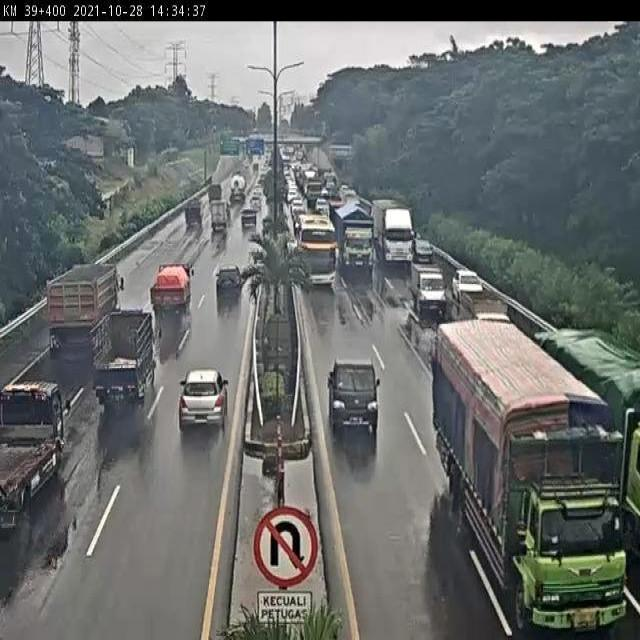big bus: (292, 211, 337, 288)
big truck: (433, 320, 629, 631), (543, 327, 640, 556), (371, 199, 413, 265), (335, 205, 373, 271)
car: (327, 360, 381, 431), (178, 368, 231, 432), (409, 260, 443, 312), (447, 266, 480, 302), (215, 265, 244, 304), (180, 201, 201, 231), (239, 208, 258, 231)
small truck: (0, 380, 65, 524), (44, 260, 122, 359), (92, 311, 161, 412), (150, 262, 196, 314), (208, 200, 227, 233)
